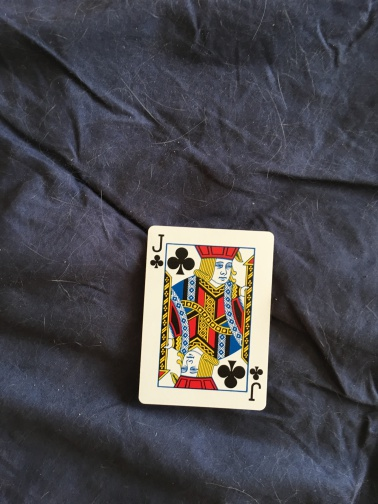jack: (137, 224, 275, 411)
